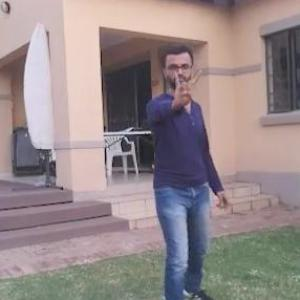takeoff-hand: (164, 61, 204, 109)
